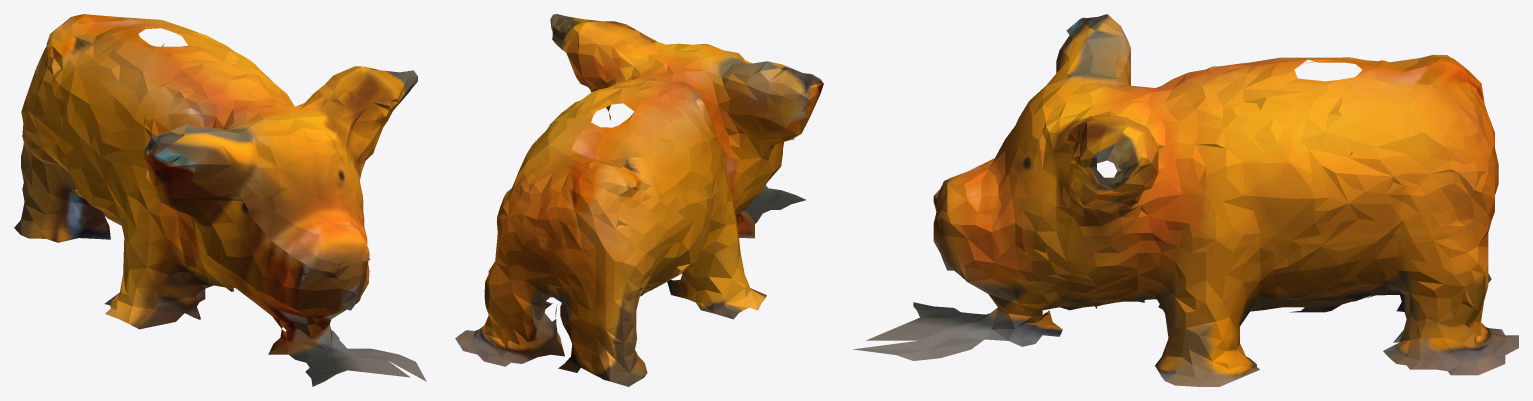
Rendered from pig.glb.
The picture shows the model from 3 angles, left to right: view 1: azimuth 30°, elevation 25°; view 2: azimuth 150°, elevation 25°; view 3: azimuth 270°, elevation 25°; orthographic projection. The views are drawn at different scales.
Bounding box in the file's own units: 0.109 × 0.087 × 0.196.
Materials: 1 (1 with a texture image).
